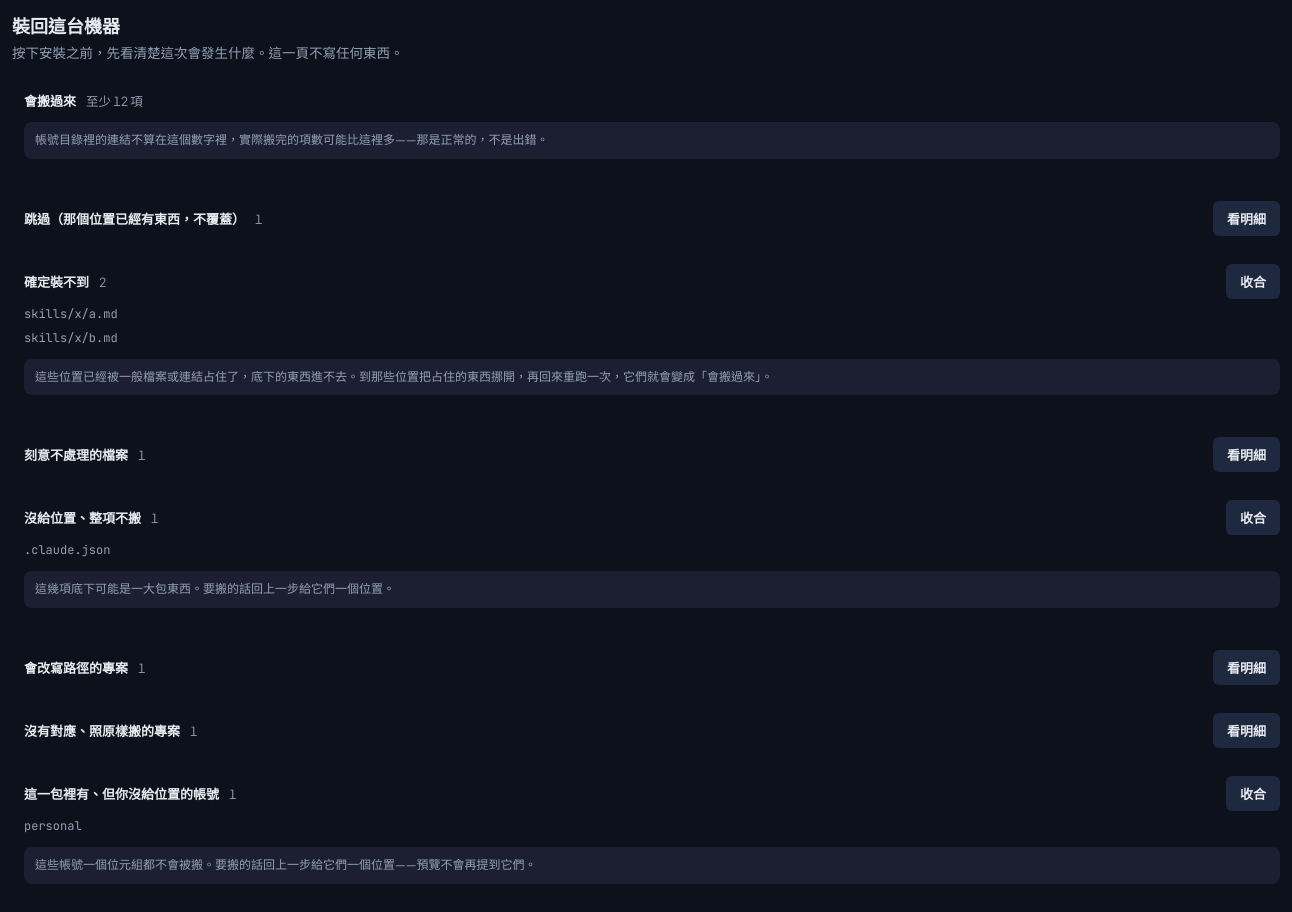
it: InstallPreviewCard › extra 名稱與排除檔同名時，兩者各自顯示不互相吃掉
Expected: the text "沒給位置、整項不搬" is shown, [24,508,141,527]
Expected: the text "刻意不處理的檔案" shows "1", [138,447,146,463]
Click the button "看明細" in the row of "刻意不處理的檔案" at (1246, 455), box [1213,437,1280,472]
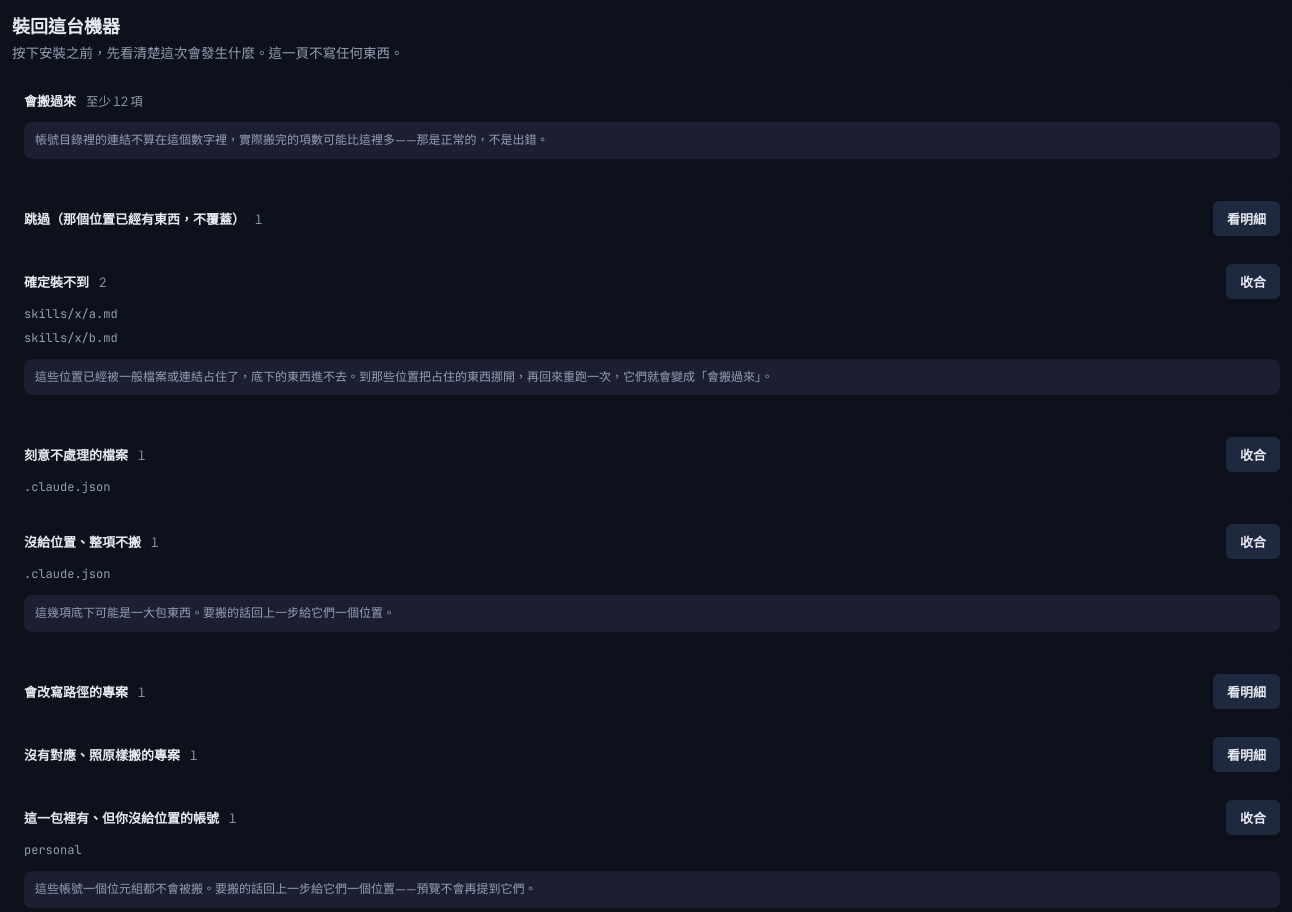
Now the text "刻意不處理的檔案" shows ".claude.json", box [24,479,110,495]
